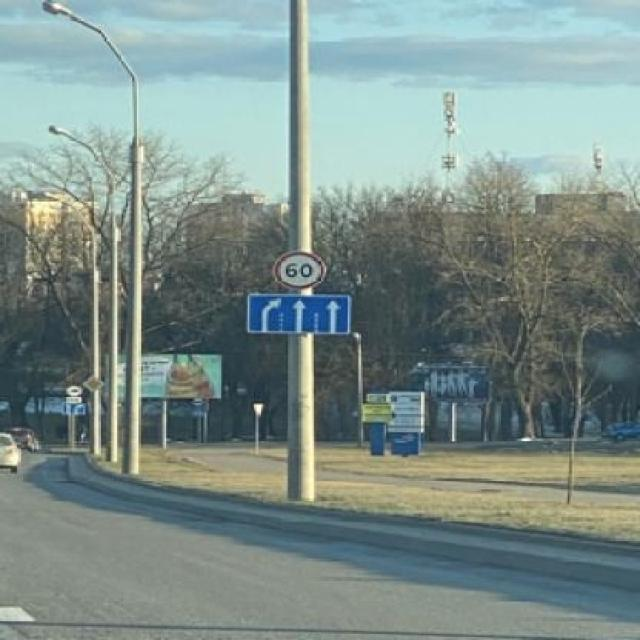forb_speed_over_60: (278, 249, 324, 289)
